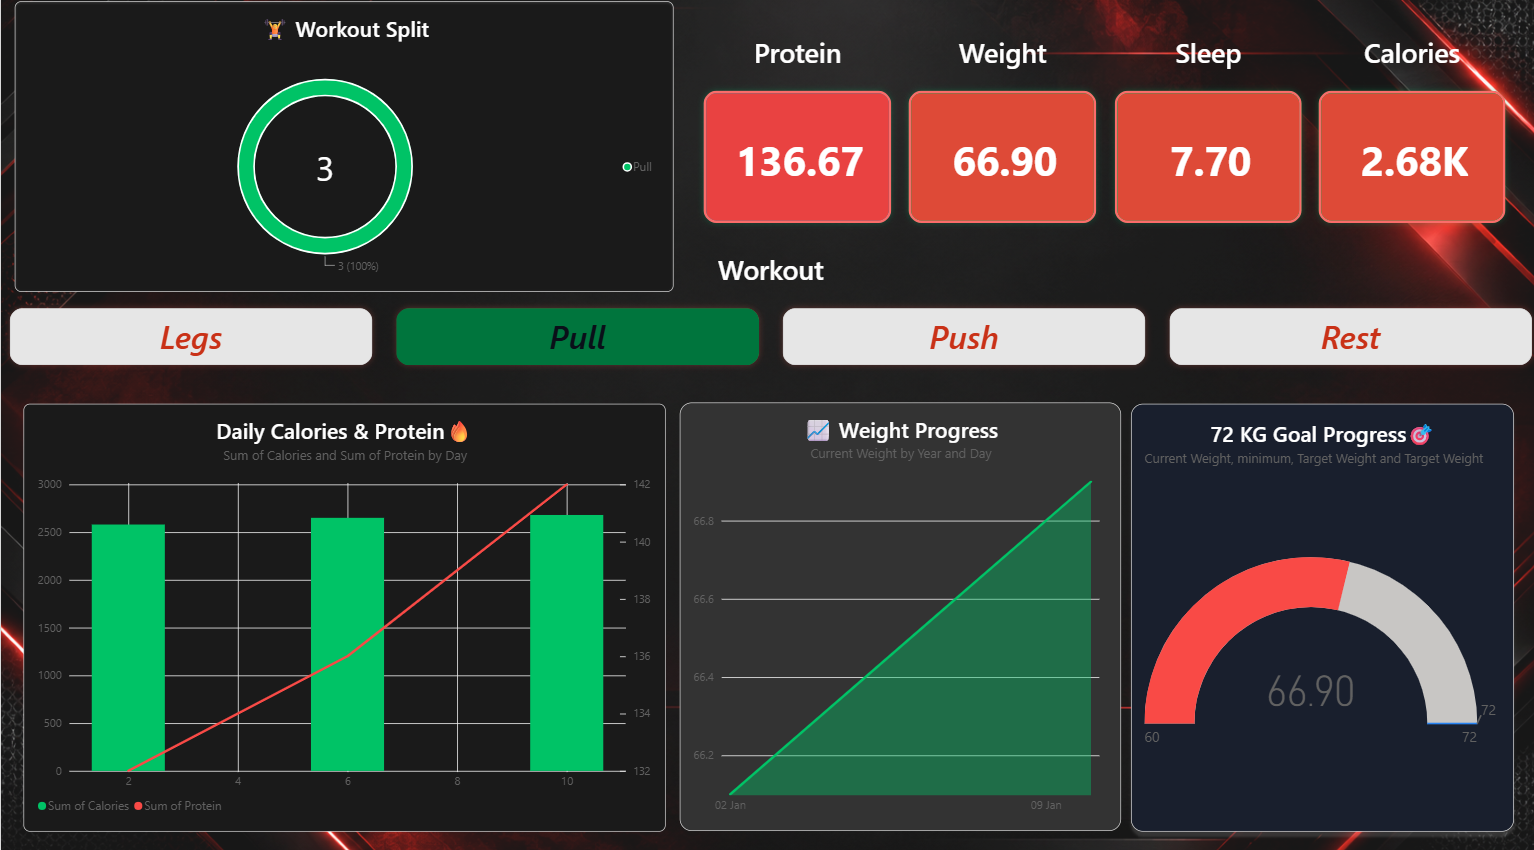

Layout of this report page (visuals, bound fields, positions):
{"tool":"powerbi","page":{"name":"Page 1","canvas":[1920,1080],"ordinal":0},"visuals":[{"type":"cardVisual","title":"Calories","fields":{"Data":["gymdata.Current Calories"]},"box":[1632.6,54.1,255,247.1],"z":0},{"type":"lineChart","title":"📈 Weight Progress","fields":{"Category":["gymdata.Date.Variation.Date Hierarchy.Year","gymdata.Date.Variation.Date Hierarchy.Day"],"Y":["gymdata.Current Weight"]},"box":[846,514,550,534],"z":1000},{"type":"advancedSlicerVisual","fields":{"Values":["gymdata.Workout"]},"box":[0,326.2,1920.4,153.5],"z":2000},{"type":"donutChart","title":"🏋️ Workout Split","fields":{"Category":["gymdata.Workout"],"Y":["CountNonNull(gymdata.Workout)"]},"box":[17.4,14,821.5,362.8],"z":3000},{"type":"cardVisual","title":"Protein","fields":{"Data":["Avg(gymdata.Protein)"]},"box":[865.1,54.1,256.6,247.1],"z":4000},{"type":"cardVisual","title":"Sleep ","fields":{"Data":["Avg(gymdata.SleepHours)"]},"box":[1377.9,54.1,255,247.1],"z":5000},{"type":"cardVisual","title":"Weight","fields":{"Data":["gymdata.Current Weight"]},"box":[1121.5,54.1,256.6,247.1],"z":6000},{"type":"gauge","title":"72 KG Goal Progress🎯","fields":{"MaxValue":["gymdata.Target Weight"],"MinValue":["gymdata.minimum"],"TargetValue":["gymdata.Target Weight"],"Y":["gymdata.Current Weight"]},"box":[1410,516,477.9,533.7],"z":7000},{"type":"lineClusteredColumnComboChart","title":"Daily Calories & Protein🔥","fields":{"Category":["gymdata.Date.Variation.Date Hierarchy.Day"],"Y":["Sum(gymdata.Calories)"],"Y2":["Sum(gymdata.Protein)"]},"box":[28,516,800.6,533.7],"z":8000}]}

Visuals, with their boxes in screenshot pixels (x1, y1, x2, y2), scaled from the page's 1920x1080 canvas onto the 1534x850 screenshot:
"Calories" cardVisual: (x1=1304, y1=43, x2=1508, y2=237)
"📈 Weight Progress" lineChart: (x1=676, y1=405, x2=1115, y2=825)
advancedSlicerVisual - gymdata.Workout: (x1=0, y1=257, x2=1533, y2=378)
"🏋️ Workout Split" donutChart: (x1=14, y1=11, x2=670, y2=297)
"Protein" cardVisual: (x1=691, y1=43, x2=896, y2=237)
"Sleep " cardVisual: (x1=1101, y1=43, x2=1305, y2=237)
"Weight" cardVisual: (x1=896, y1=43, x2=1101, y2=237)
"72 KG Goal Progress🎯" gauge: (x1=1127, y1=406, x2=1508, y2=826)
"Daily Calories & Protein🔥" lineClusteredColumnComboChart: (x1=22, y1=406, x2=662, y2=826)
